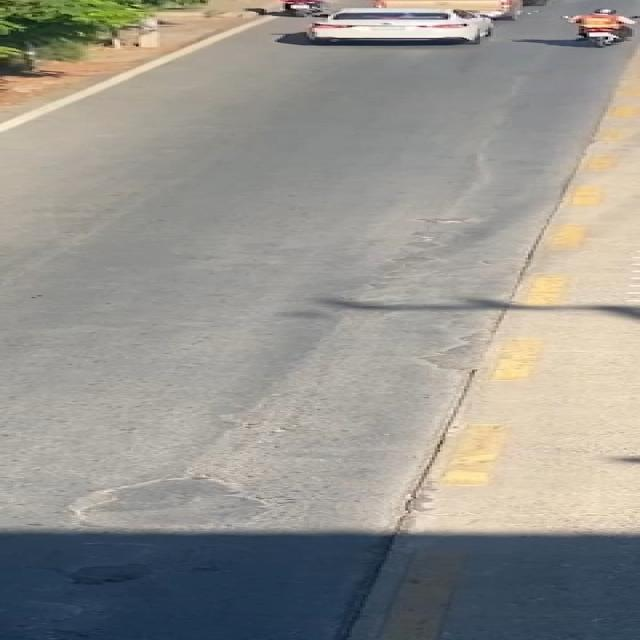car: (290, 6, 514, 44)
